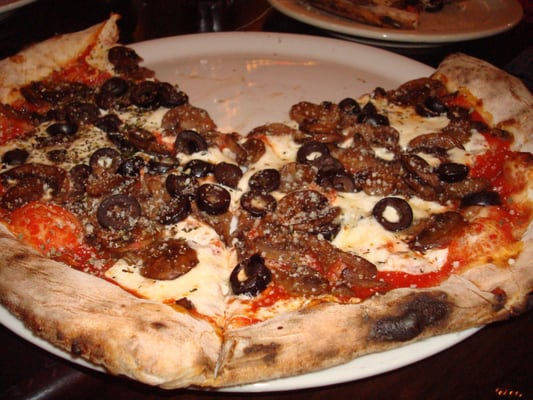curry: (0, 2, 533, 397)
sandwich: (0, 29, 533, 395)
